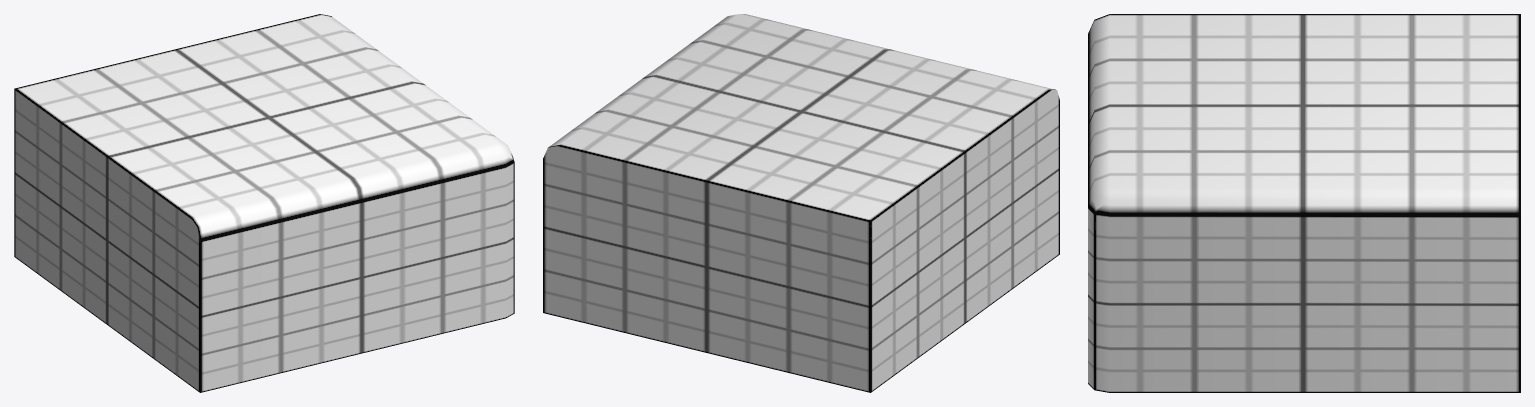
3 renders of one model, left to right at view 1: azimuth 30°, elevation 25°; view 2: azimuth 150°, elevation 25°; view 3: azimuth 270°, elevation 25°, orthographic. The views are drawn at different scales.
Parts seen in each view (by area): view 1: Yplus, Zplus, Xminus; view 2: Yplus, Zminus, Xminus; view 3: Yplus, Xplus, Zplus.
Boxes of the visible parts, box(x1,y1,x2,y2) form: Yplus: box(14, 14, 514, 241); Zplus: box(200, 162, 514, 392); Xminus: box(14, 89, 200, 392); Yplus: box(548, 14, 1055, 221); Zminus: box(543, 145, 870, 392); Xminus: box(870, 90, 1059, 392); Yplus: box(1088, 14, 1520, 216); Xplus: box(1094, 214, 1520, 392); Zplus: box(1088, 207, 1094, 389).
Size of the model in its own units: 100 by 50 by 100.
